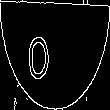O_N: (44, 28, 66, 82)
